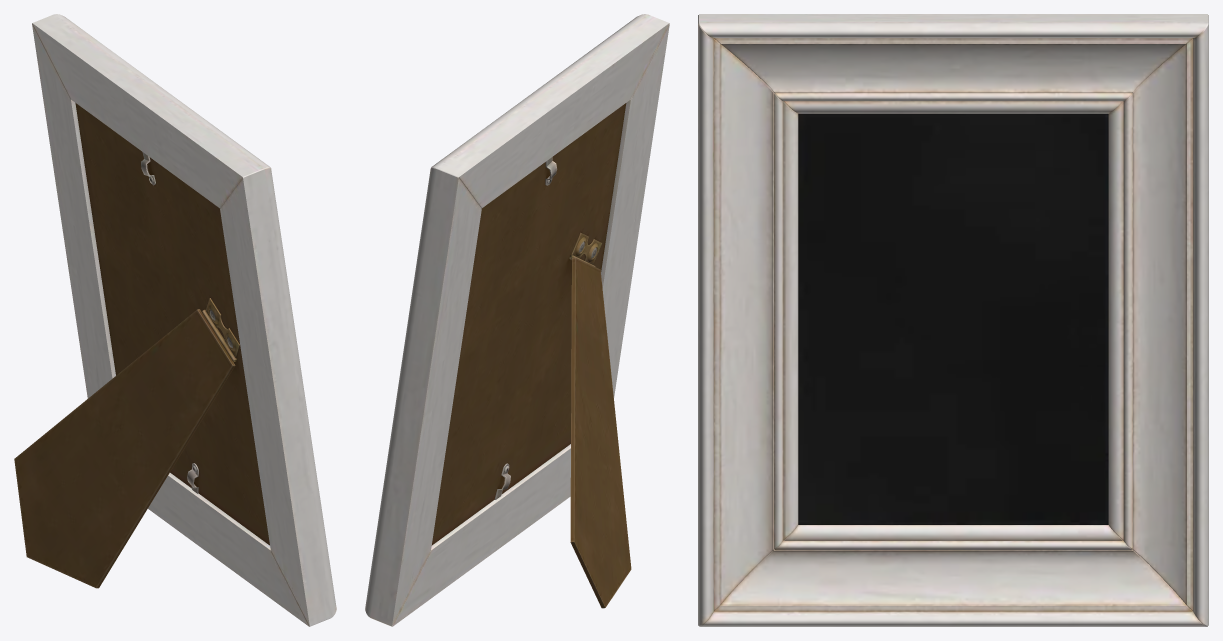
Rendered from standing_picture_frame_02.glb.
The picture shows the model from 3 angles, left to right: view 1: azimuth 30°, elevation 25°; view 2: azimuth 150°, elevation 25°; view 3: azimuth 270°, elevation 25°; orthographic projection. The views are drawn at different scales.
Parts seen in each view (by area): view 1: standing_picture_frame_02; view 2: standing_picture_frame_02; view 3: standing_picture_frame_02.
Boxes of the visible parts, <box> form: standing_picture_frame_02: <box>14,14,336,626</box>; standing_picture_frame_02: <box>365,14,669,626</box>; standing_picture_frame_02: <box>698,14,1208,626</box>.
Size of the model in its own units: 0.1023 by 0.2664 by 0.2169.
Materials: 3 (3 with a texture image).
